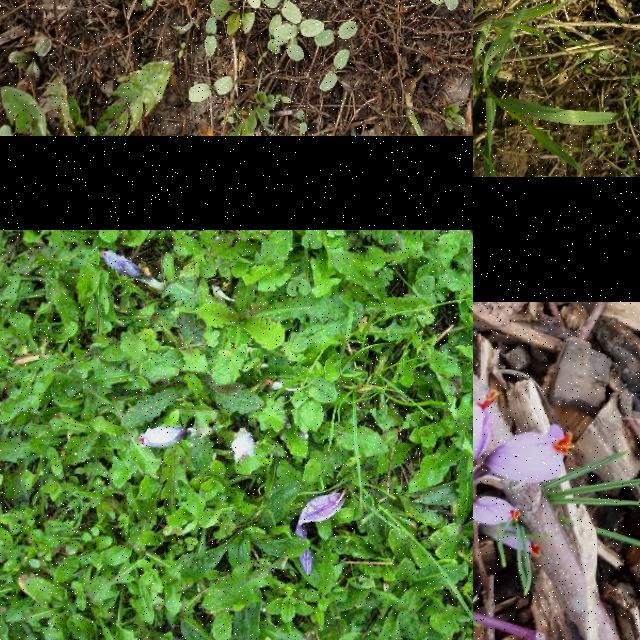flower: (484, 424, 576, 484), (473, 389, 501, 472), (485, 525, 541, 557), (473, 495, 522, 524), (100, 250, 144, 280), (140, 426, 188, 449), (232, 433, 254, 461)
